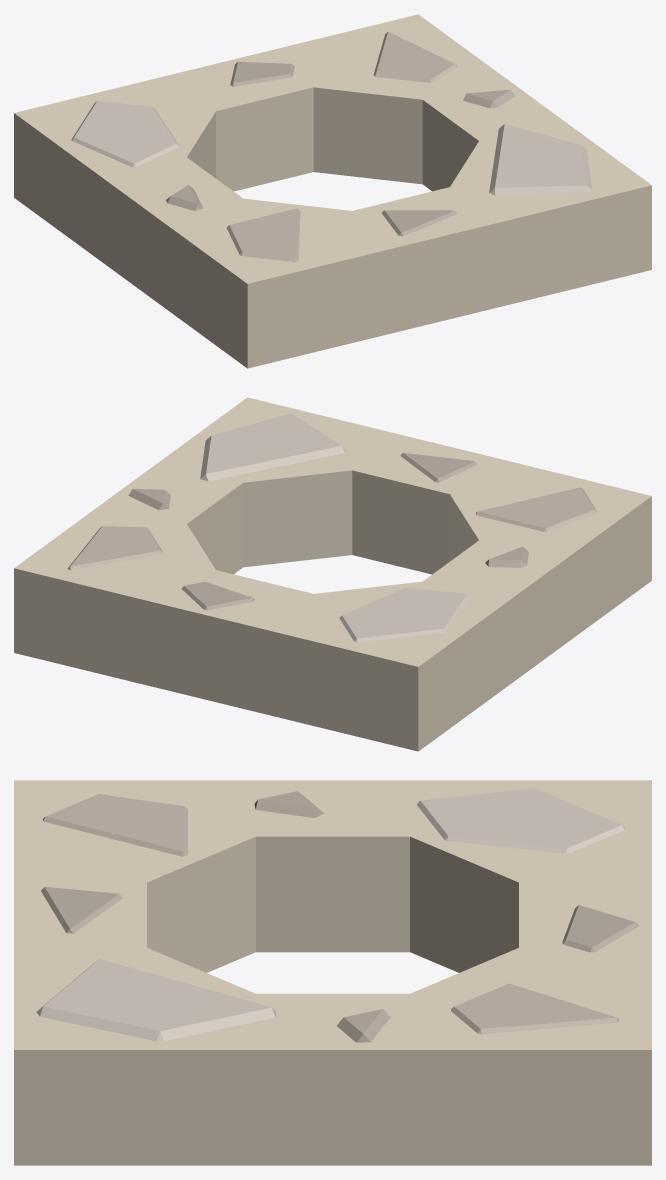
The model's file is Prop_Well_Cobblestone.glb.
3 renders of one model, top to bottom at view 1: azimuth 30°, elevation 25°; view 2: azimuth 150°, elevation 25°; view 3: azimuth 270°, elevation 25°, orthographic. The views are drawn at different scales.
Visible parts, largest first — view 1: object1; view 2: object1; view 3: object1.
Boxes of the visible parts, x1,y1,x2,y2 form: object1: (14, 14, 651, 368); object1: (14, 397, 651, 751); object1: (14, 780, 651, 1165).
Size of the model in its own units: 1 by 0.2125 by 1.
